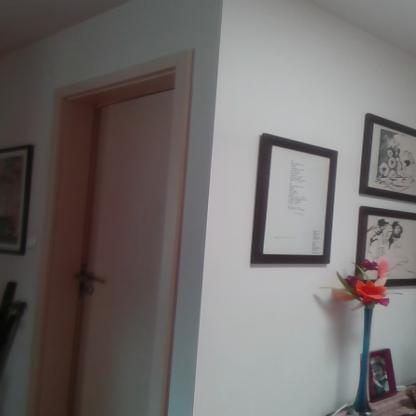door: (78, 106, 172, 416)
lever: (75, 274, 107, 284)
